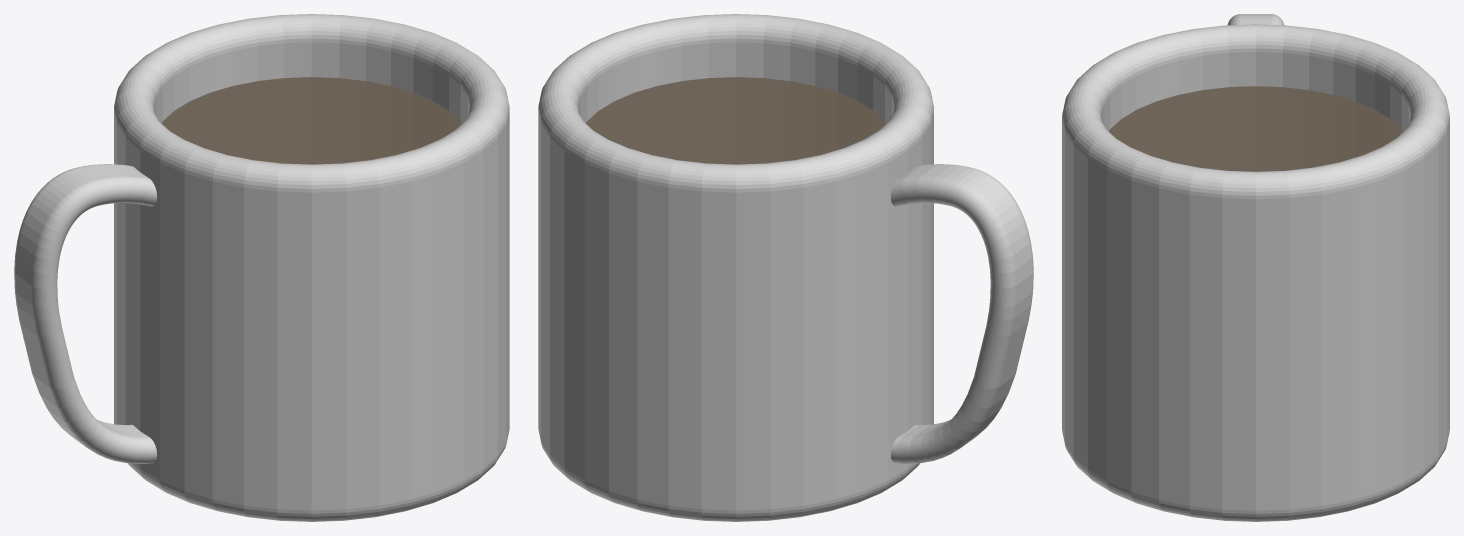
The model's file is Coffee Cup.gltf.
The picture shows the model from 3 angles, left to right: view 1: azimuth 30°, elevation 25°; view 2: azimuth 150°, elevation 25°; view 3: azimuth 270°, elevation 25°; orthographic projection. The views are drawn at different scales.
Visible parts, largest first — view 1: node-0; view 2: node-0; view 3: node-0.
Boxes of the visible parts, x1,y1,x2,y2 form: node-0: [14, 14, 509, 521]; node-0: [538, 14, 1033, 521]; node-0: [1062, 14, 1449, 521].
Size of the model in its own units: 146 by 108 by 109.
